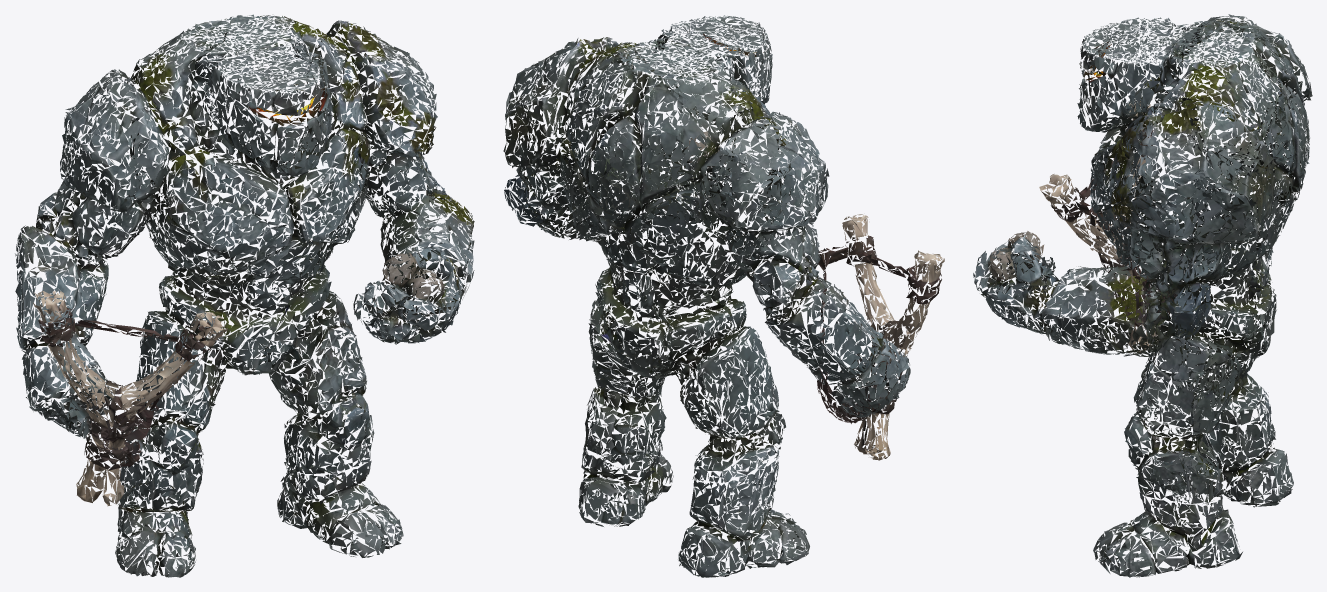
File: shooter_stone.glb
The picture shows the model from 3 angles, left to right: view 1: azimuth 30°, elevation 25°; view 2: azimuth 150°, elevation 25°; view 3: azimuth 270°, elevation 25°; orthographic projection. The views are drawn at different scales.
Visible parts, largest first — view 1: tripo_node_308d941f-e344-4a9d-b405-dfb3eb0b827d; view 2: tripo_node_308d941f-e344-4a9d-b405-dfb3eb0b827d; view 3: tripo_node_308d941f-e344-4a9d-b405-dfb3eb0b827d.
Part boxes in pixels (left/top/right/bottom): tripo_node_308d941f-e344-4a9d-b405-dfb3eb0b827d: left=15, top=14, right=474, bottom=577; tripo_node_308d941f-e344-4a9d-b405-dfb3eb0b827d: left=503, top=15, right=944, bottom=577; tripo_node_308d941f-e344-4a9d-b405-dfb3eb0b827d: left=973, top=14, right=1312, bottom=577.
Size of the model in its own units: 1.55 by 1.7 by 1.07.
1 material, 1 textured.
